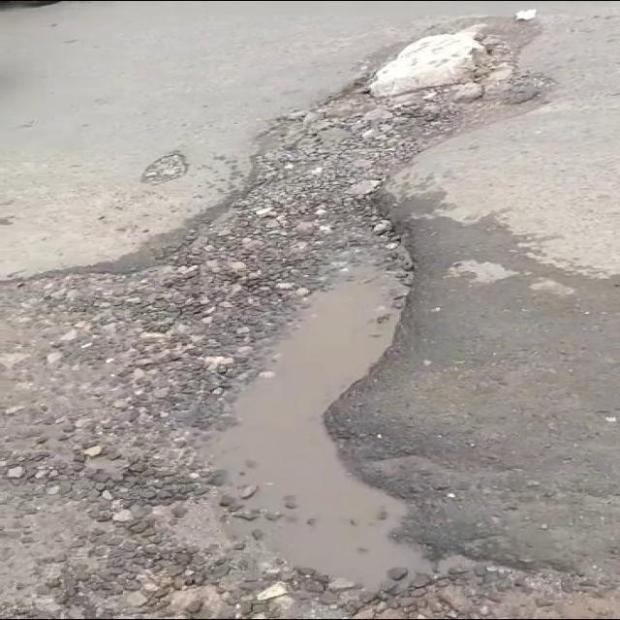lubang: (0, 16, 619, 616), (141, 151, 189, 184)
